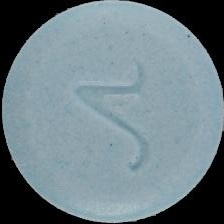43353-701: (0, 0, 224, 224)
